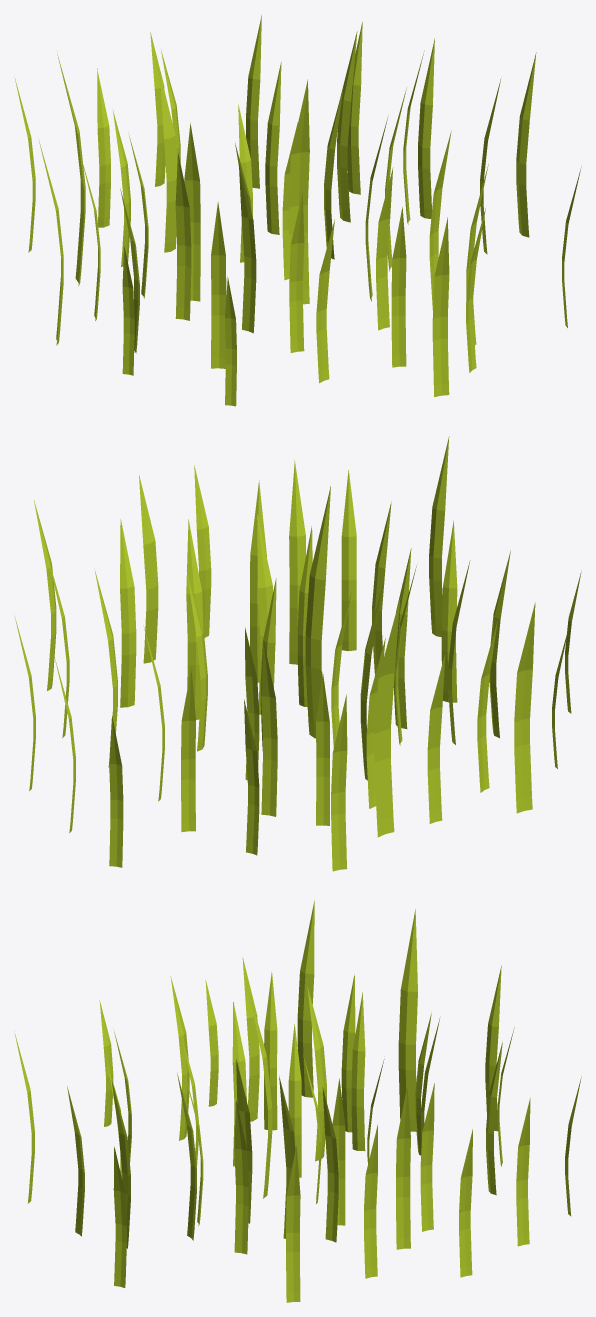
Rendered from grass3.fbx.
The picture shows the model from 3 angles, top to bottom: view 1: azimuth 30°, elevation 25°; view 2: azimuth 150°, elevation 25°; view 3: azimuth 270°, elevation 25°; orthographic projection. The views are drawn at different scales.
Visible parts, largest first — view 1: grass3; view 2: grass3; view 3: grass3.
Boxes of the visible parts, x1=… form: grass3: x1=14, y1=15, x2=581, y2=406; grass3: x1=14, y1=436, x2=581, y2=871; grass3: x1=14, y1=900, x2=581, y2=1302.
Bounding box in the file's own units: 94.02 × 44.75 × 103.
